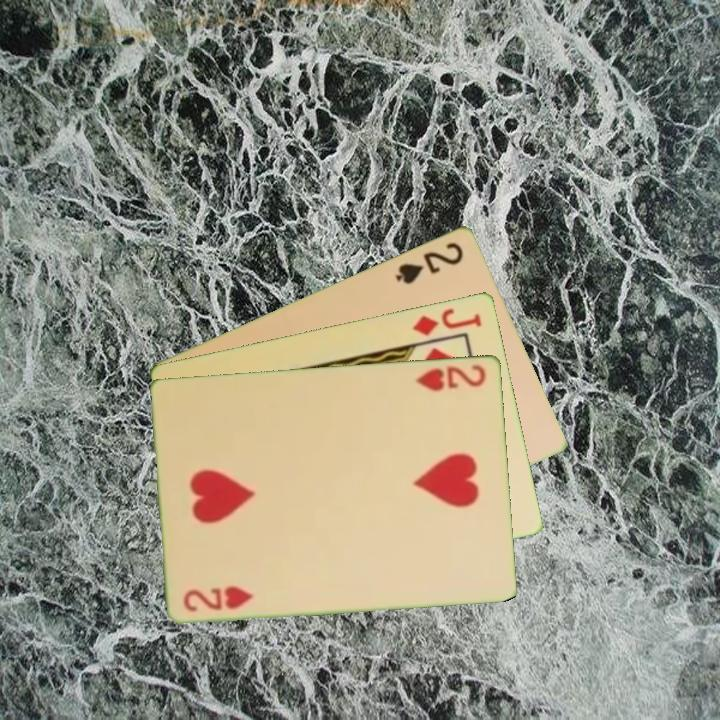2h: (180, 582, 257, 614), (413, 361, 489, 393)
2s: (392, 237, 467, 287)
Jd: (409, 304, 485, 338)
